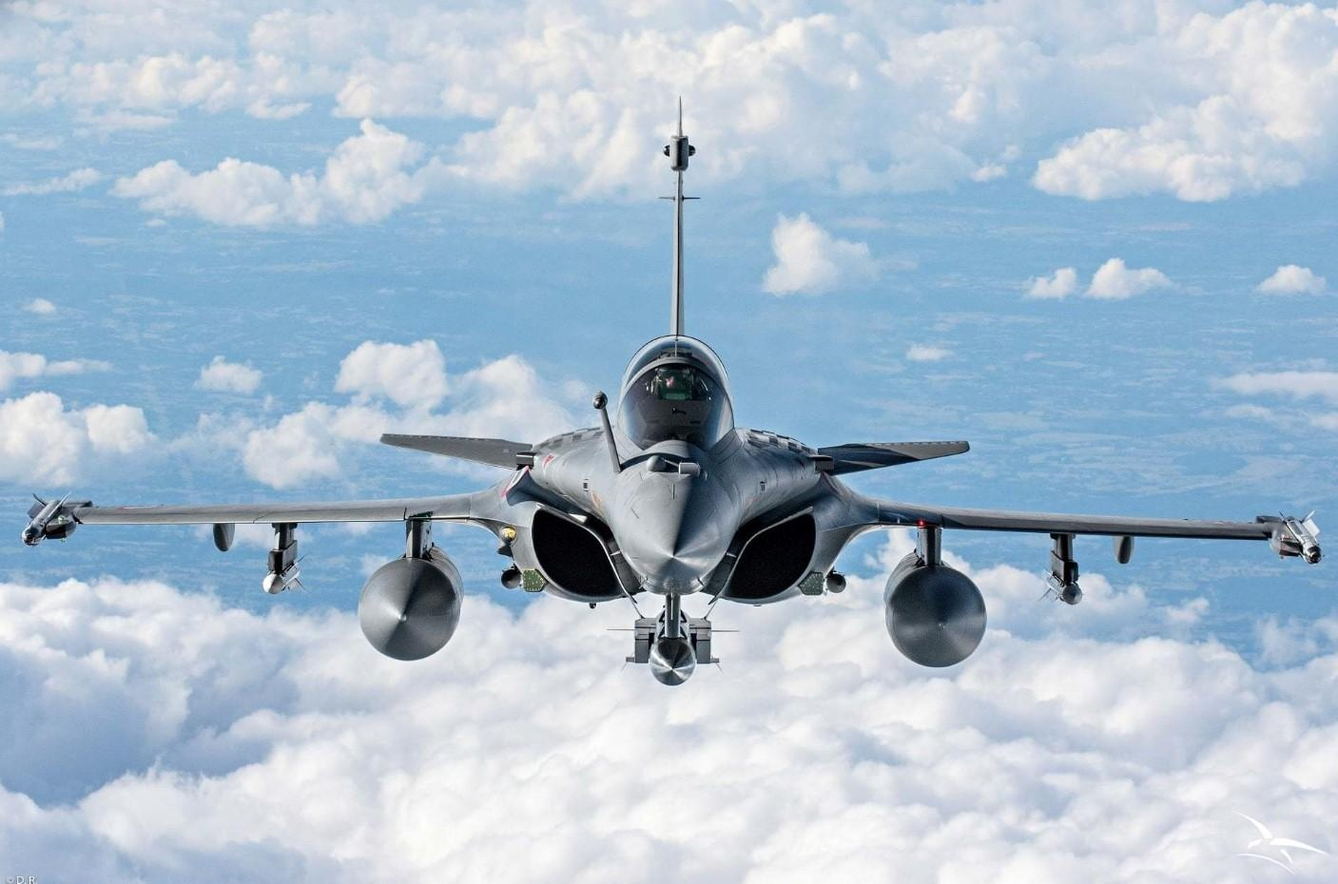aircraft: (1, 91, 1336, 686)
